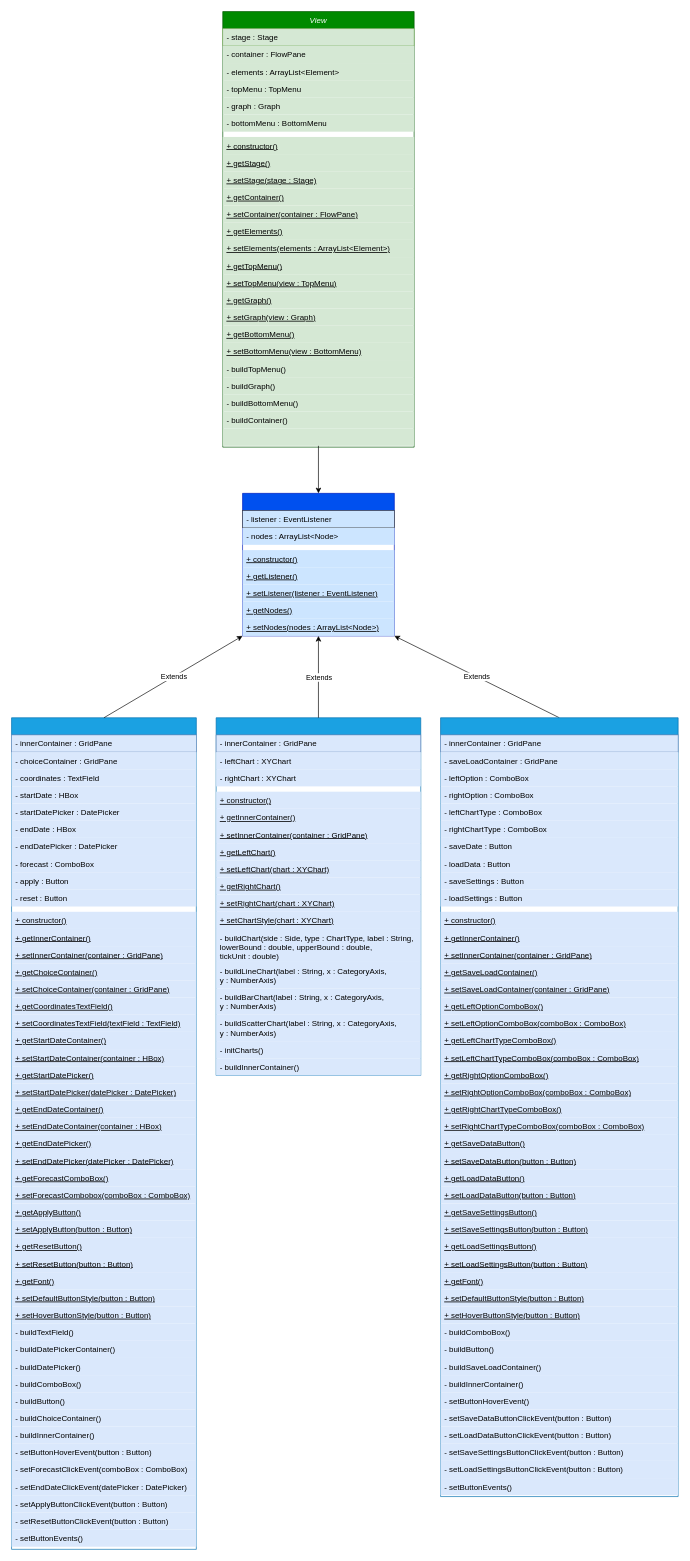
This 690x1561 diagram has some shape labels left out. Each missing label, with the box of its shape:
- render(): (222, 428, 414, 446)
BottomMenu: (440, 717, 678, 1497)
Element: (242, 493, 394, 636)
Graph: (215, 717, 421, 1075)
TopMenu: (11, 717, 196, 1549)
